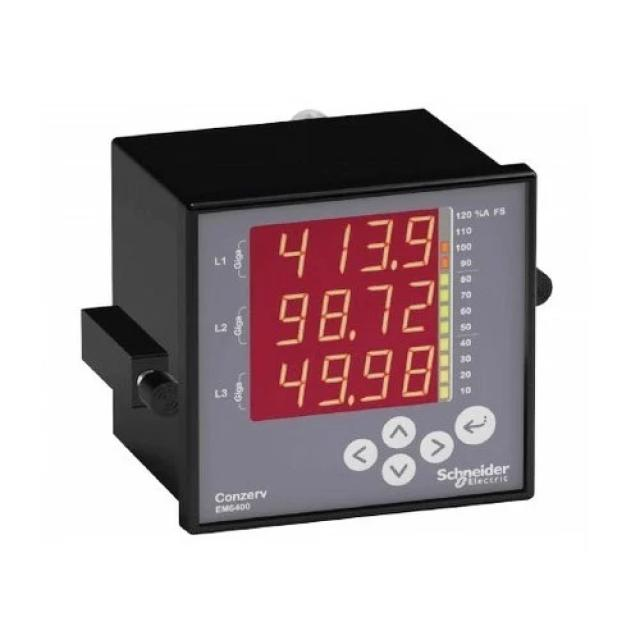display: (250, 208, 442, 420)
frame: (274, 280, 436, 346), (275, 344, 439, 409), (272, 211, 433, 275), (456, 350, 474, 365), (455, 241, 477, 253), (455, 257, 475, 270), (458, 271, 475, 286), (455, 208, 473, 222), (454, 225, 475, 237), (234, 502, 255, 514), (458, 335, 474, 350), (457, 287, 475, 300), (456, 321, 474, 334), (456, 304, 474, 316), (457, 368, 472, 382), (456, 384, 472, 397), (220, 320, 230, 336), (220, 384, 230, 400), (220, 253, 228, 269)
gauge: (78, 109, 554, 533)
